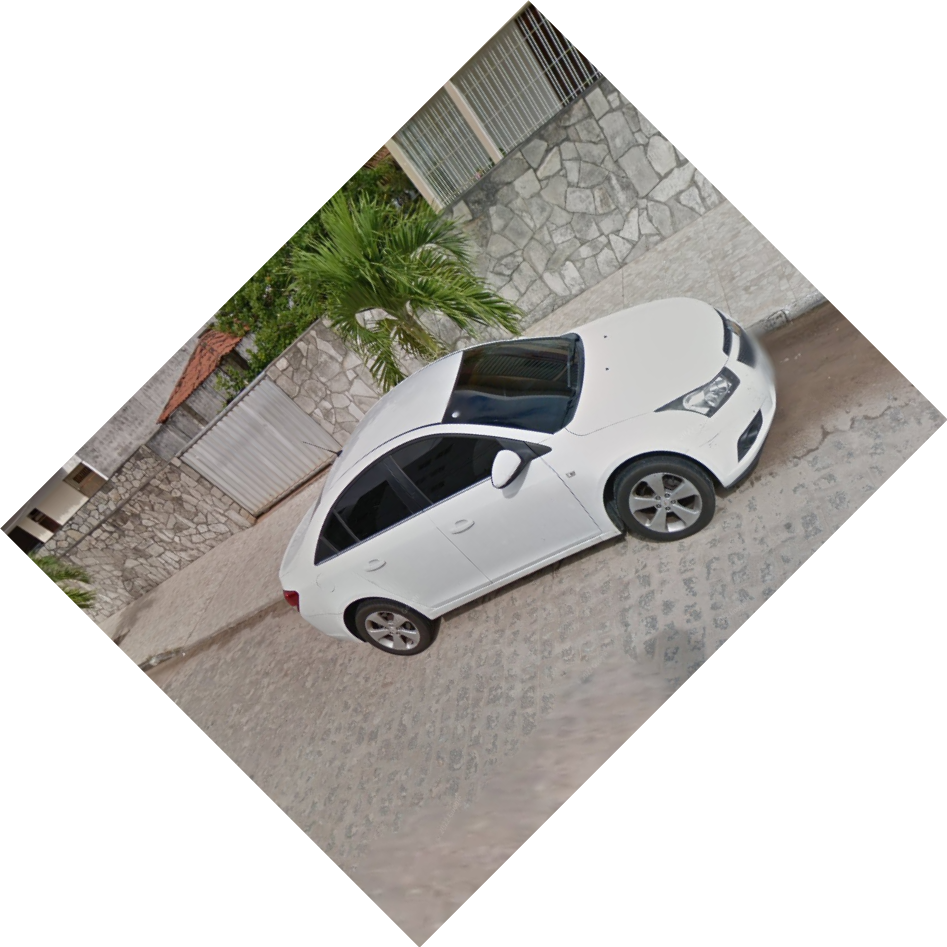car: (275, 286, 782, 659)
